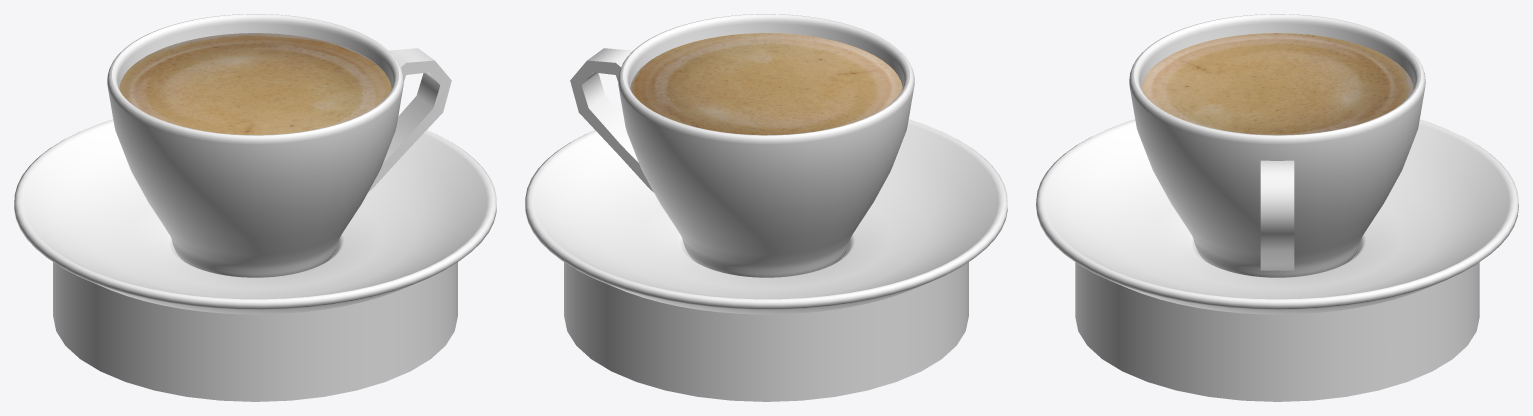
File: cup02.fbx
3 views of the same model, side by side, from view 1: azimuth 30°, elevation 25°; view 2: azimuth 150°, elevation 25°; view 3: azimuth 270°, elevation 25° (orthographic).
Visible parts, largest first — view 1: Line001, Line002, Rectangle001, Cylinder001, Line003; view 2: Line001, Line002, Rectangle001, Cylinder001, Line003; view 3: Line001, Line002, Rectangle001, Cylinder001, Line003.
Part boxes in pixels (x1,y1,x2,y2): Line001: (14, 119, 496, 314); Line002: (107, 14, 403, 277); Rectangle001: (53, 262, 457, 401); Cylinder001: (119, 33, 391, 135); Line003: (368, 48, 451, 192); Line001: (525, 119, 1007, 314); Line002: (618, 14, 914, 277); Rectangle001: (564, 262, 968, 401); Cylinder001: (630, 33, 902, 135); Line003: (570, 48, 653, 192); Line001: (1036, 119, 1518, 314); Line002: (1129, 14, 1425, 277); Rectangle001: (1075, 262, 1479, 401); Cylinder001: (1141, 33, 1413, 135); Line003: (1260, 160, 1294, 270).
Bounding box in the file's own units: 14.32 × 7.9 × 14.32.
2 materials, 1 textured.
